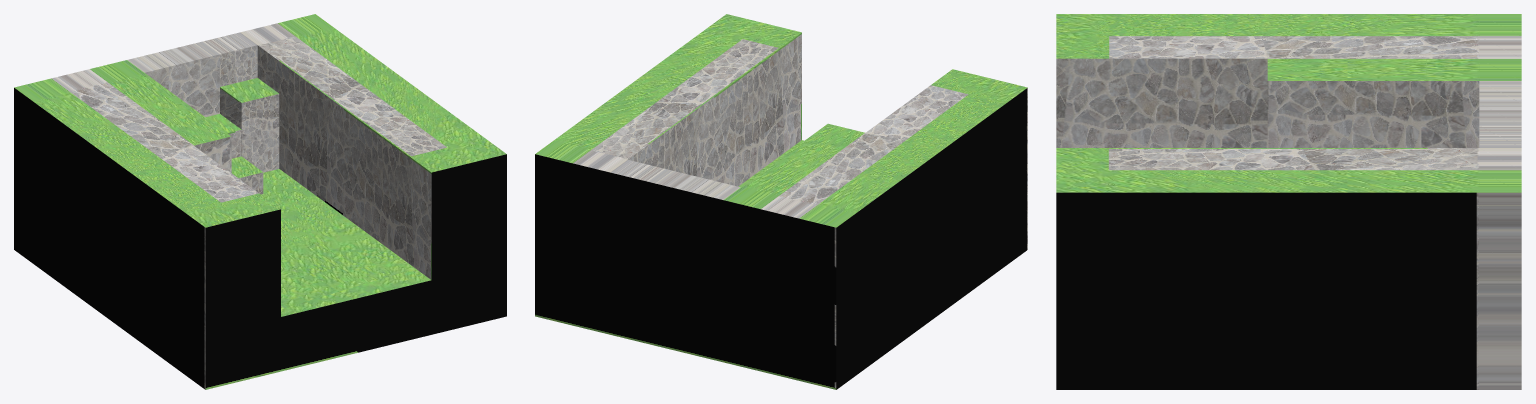
The model's file is jump_puzzle_one_fix.glb.
3 renders of one model, left to right at view 1: azimuth 30°, elevation 25°; view 2: azimuth 150°, elevation 25°; view 3: azimuth 270°, elevation 25°, orthographic. The views are drawn at different scales.
Visible parts, largest first — view 1: Cube; view 2: Cube; view 3: Cube.
Boxes of the visible parts, x1,y1,x2,y2 form: Cube: [14, 14, 506, 389]; Cube: [535, 14, 1027, 389]; Cube: [1056, 14, 1521, 389].
Size of the model in its own units: 9.46 by 4.87 by 10.41.
1 material, 1 textured.
